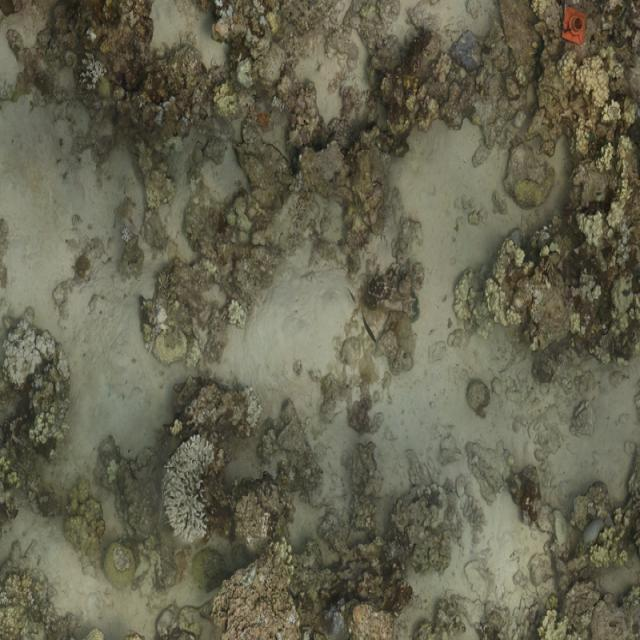Bleached Coral: (158, 432, 214, 548), (0, 307, 54, 382), (72, 52, 116, 100)
